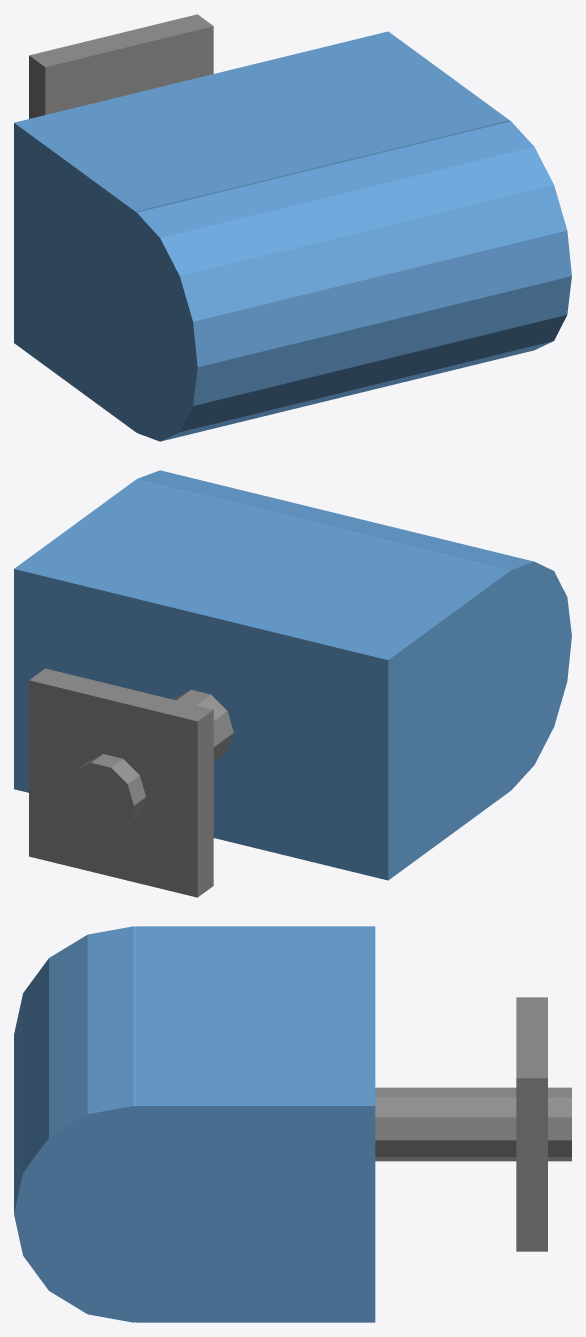
The model's file is city_mailbox_blue.glb.
3 renders of one model, top to bottom at view 1: azimuth 30°, elevation 25°; view 2: azimuth 150°, elevation 25°; view 3: azimuth 270°, elevation 25°, orthographic.
Visible parts, largest first — view 1: rounded_top, mailbox_body, base; view 2: mailbox_body, base, rounded_top, post; view 3: mailbox_body, rounded_top, post, base.
Part boxes in pixels (bbox=[...]): rounded_top: bbox=[76, 121, 571, 441]; mailbox_body: bbox=[14, 31, 509, 431]; base: bbox=[29, 14, 213, 118]; mailbox_body: bbox=[14, 480, 509, 880]; base: bbox=[29, 668, 213, 897]; rounded_top: bbox=[136, 470, 571, 798]; post: bbox=[68, 689, 233, 832]; mailbox_body: bbox=[136, 926, 375, 1322]; rounded_top: bbox=[14, 926, 252, 1322]; post: bbox=[375, 1087, 571, 1161]; base: bbox=[516, 997, 547, 1251].
Bounding box in the file's own units: 0.8 × 0.45 × 1.05.
